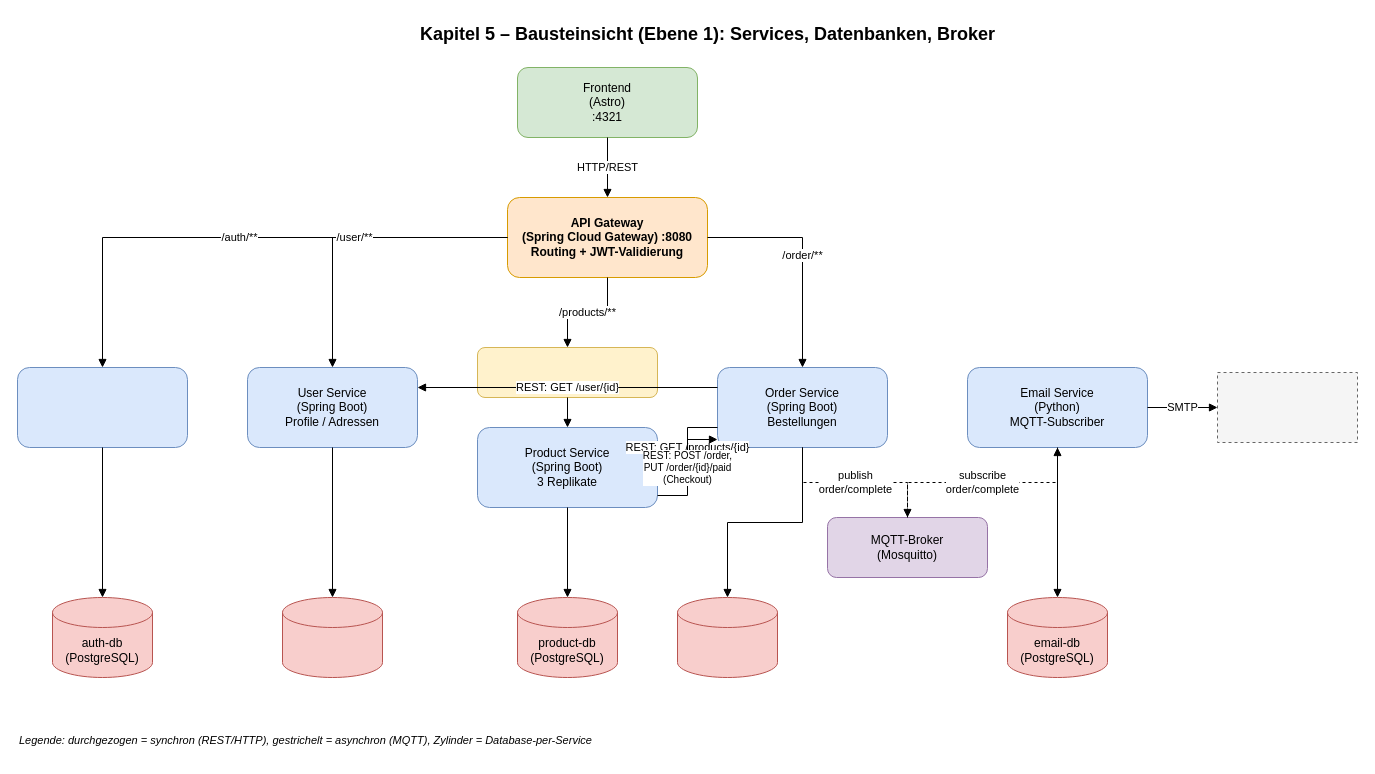
The diagram is 1375 pixels wide and 774 high, and some of its shapes have lost their labels. The shapes that lost their labels are listed below. From the top down, each one's centre as x and y in pixels, then its label:
At (x=567, y=372): "Nginx Load Balancer".
At (x=102, y=407): "Auth Service (Python/Flask) JWT-Ausstellung".
At (x=1287, y=407): "SMTP-Server (extern)".
At (x=332, y=637): "user-db (PostgreSQL)".
At (x=727, y=637): "order-db (PostgreSQL)".
